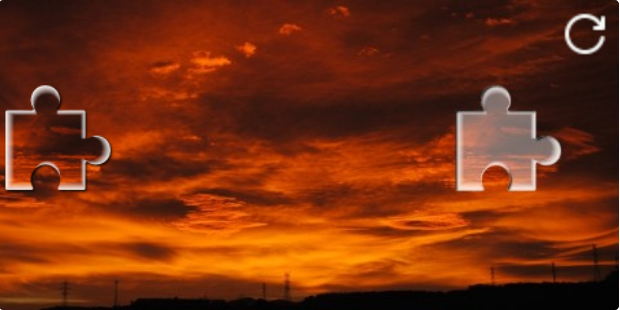target: (456, 84, 562, 192)
